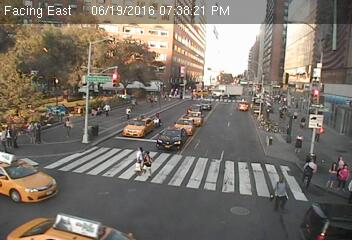neg: (261, 106, 276, 127), (254, 82, 265, 96), (169, 84, 179, 98)
pos: (266, 173, 296, 213), (299, 155, 323, 187), (323, 160, 344, 188), (139, 149, 157, 174), (336, 161, 351, 190), (292, 130, 309, 154), (30, 120, 47, 144), (1, 124, 18, 147), (59, 116, 76, 138), (128, 144, 144, 165), (100, 100, 112, 116), (123, 105, 134, 119), (298, 115, 307, 127), (336, 154, 344, 165), (292, 109, 299, 119)
